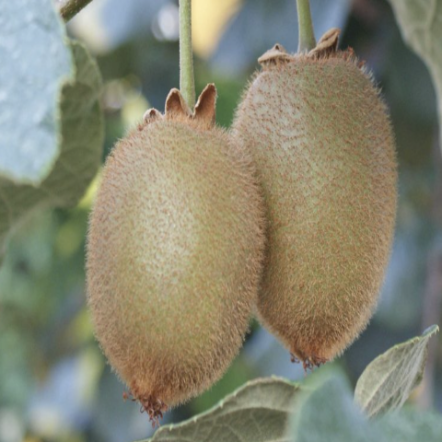kiwi: (218, 39, 415, 365), (87, 77, 267, 420)
